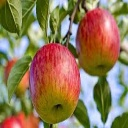apple: (30, 43, 81, 123)
